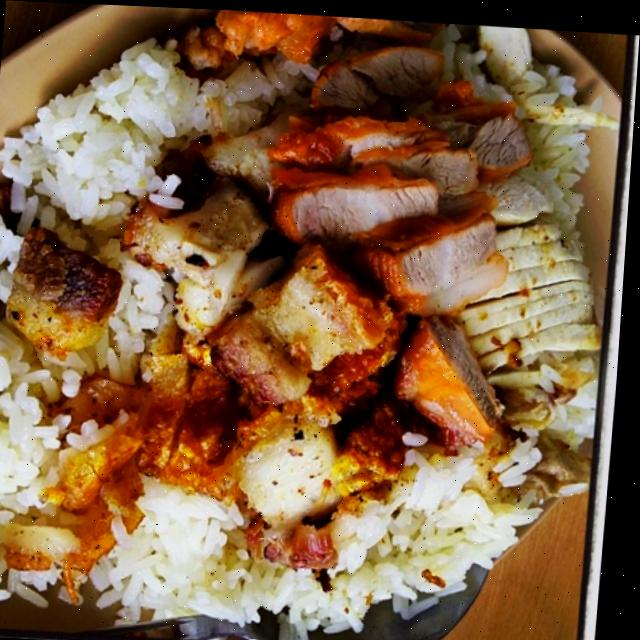猪肉菜式: (0, 3, 614, 640)
